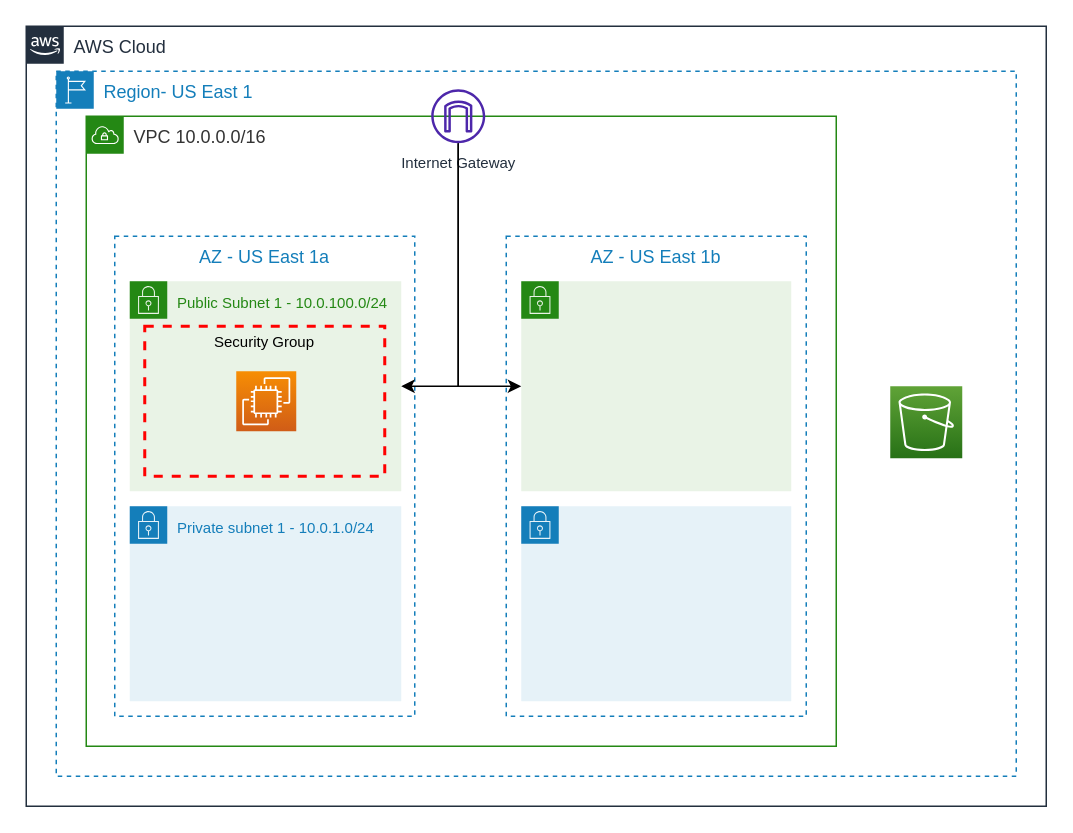
Some shapes in this 1073 by 833 pixel diagram are drawn without their labels. Here are the shapes that lost their labels. From the top down, the centre of each, then its label:
At (x=265, y=400): "Jenkins server".
At (x=655, y=385): "Public Subnet 2 - 10.0.101.0/24".
At (x=925, y=421): "Jenkins artifacts".
At (x=655, y=603): "Private subnet 2 - 10.0.2.0/24".
